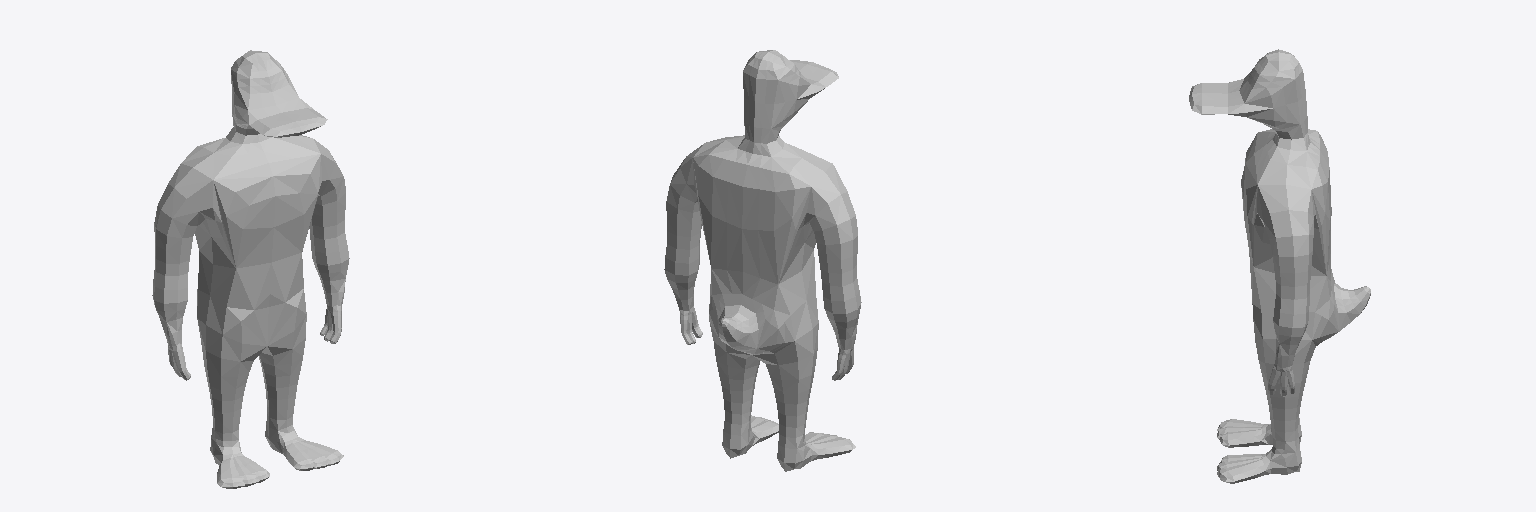
Rendered from canard.obj.
The picture shows the model from 3 angles: view 1: azimuth 30°, elevation 25°; view 2: azimuth 150°, elevation 25°; view 3: azimuth 270°, elevation 25°; orthographic projection.
Parts seen in each view (by area): view 1: Cube; view 2: Cube; view 3: Cube.
Part boxes in pixels (bbox=[...]): Cube: bbox=[152, 50, 349, 488]; Cube: bbox=[664, 50, 861, 471]; Cube: bbox=[1189, 49, 1370, 483].
Bounding box in the file's own units: 1.38 × 2.8 × 1.14.